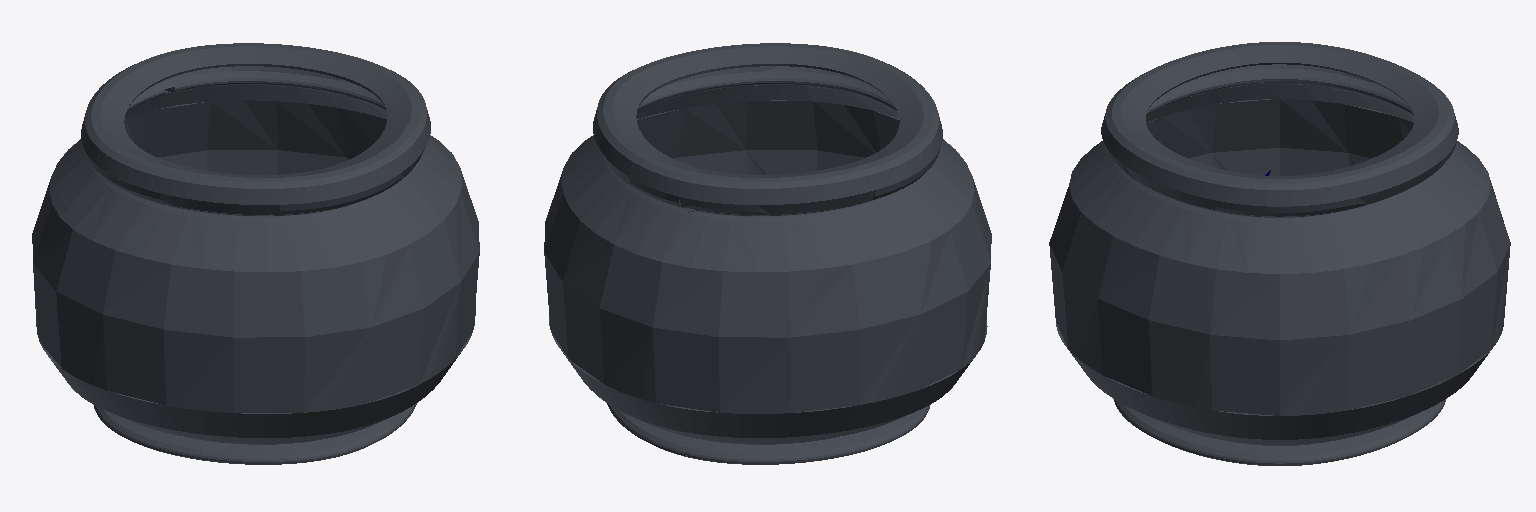
Rendered from FishSetForSketchFab.obj.
3 renders of one model, left to right at view 1: azimuth 30°, elevation 25°; view 2: azimuth 150°, elevation 25°; view 3: azimuth 270°, elevation 25°, orthographic.
Parts seen in each view (by area): view 1: revolvedSurface1; view 2: revolvedSurface1; view 3: revolvedSurface1.
Part boxes in pixels (left/top/right/bottom): revolvedSurface1: left=32, top=43, right=479, bottom=464; revolvedSurface1: left=544, top=43, right=991, bottom=464; revolvedSurface1: left=1049, top=42, right=1510, bottom=465.
Size of the model in its own units: 17.17 by 11.81 by 17.17.